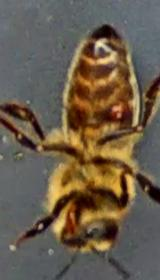varroa_mite: (95, 92, 138, 126)
